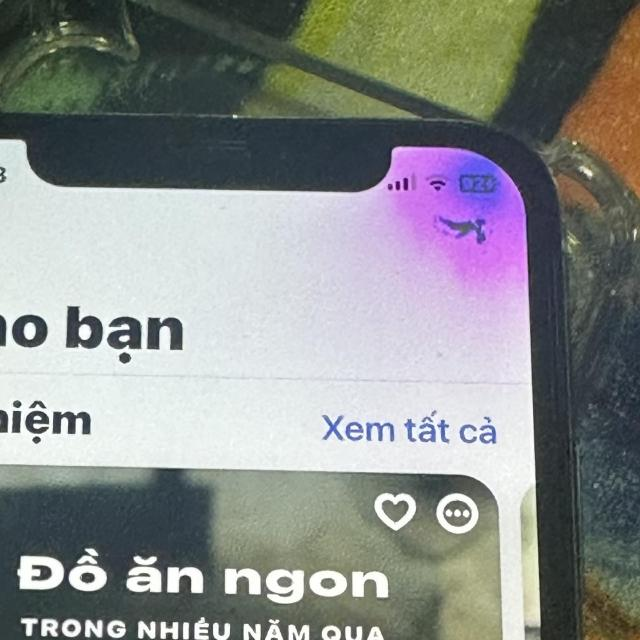gen_11: (0, 103, 587, 640)
